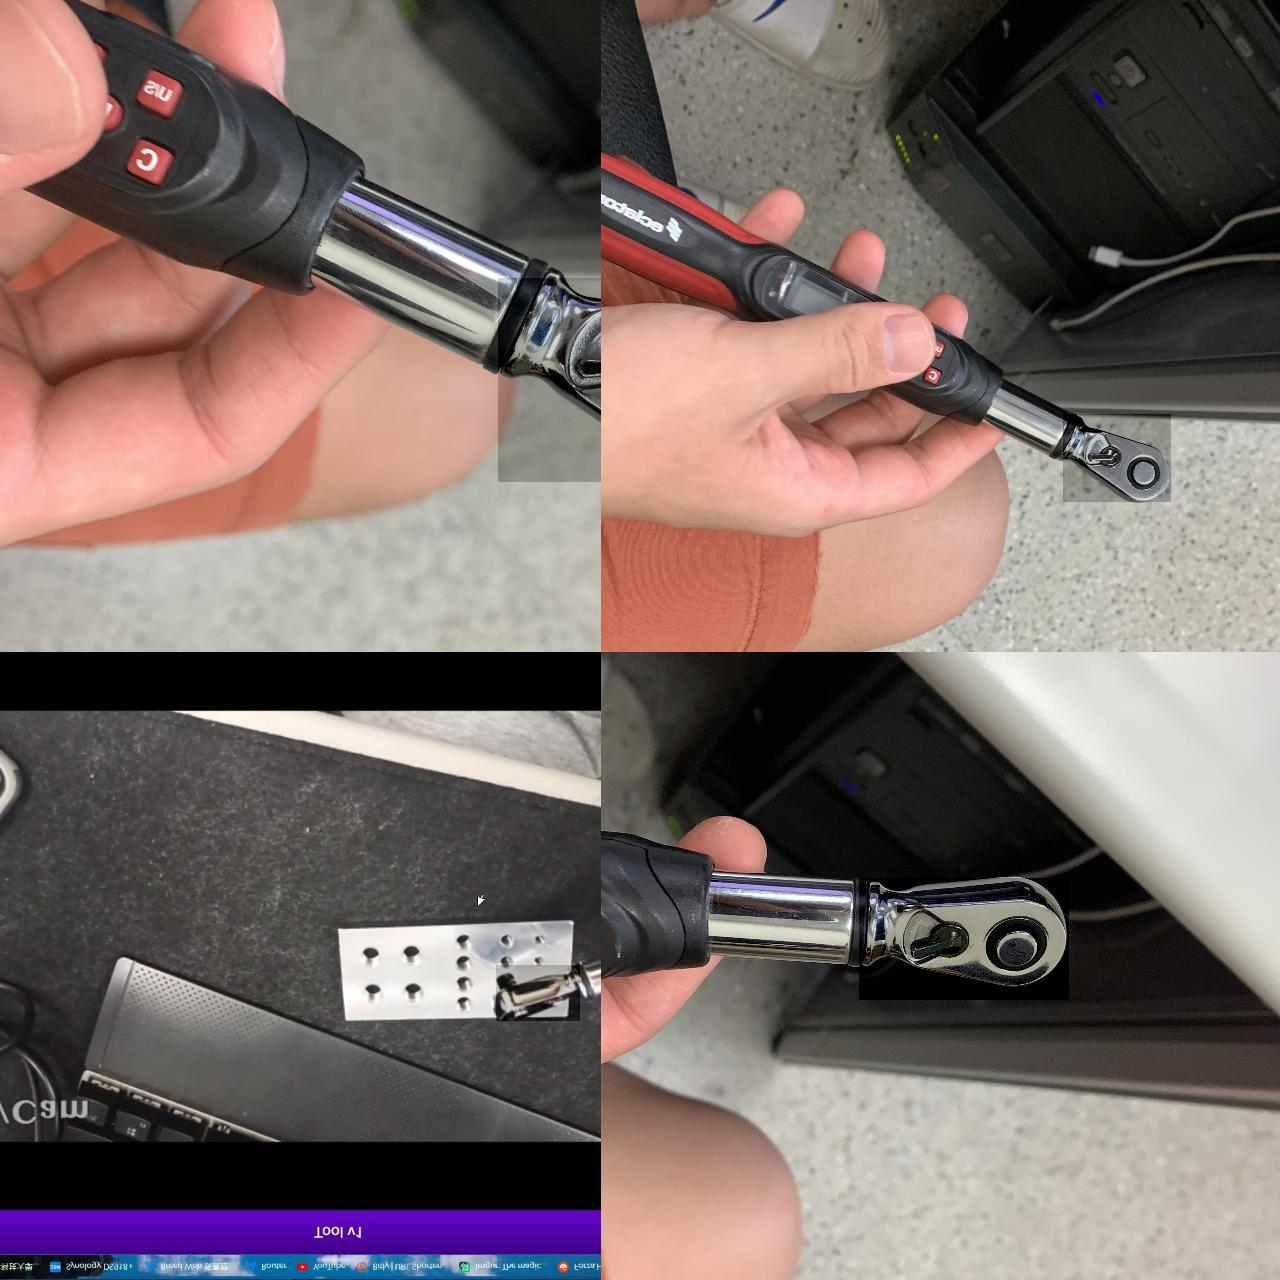Tool: (858, 877, 1068, 999), (497, 277, 601, 481), (1062, 413, 1170, 501), (495, 964, 579, 1020)
hole: (352, 941, 377, 967), (396, 976, 421, 1001), (395, 940, 420, 965), (353, 985, 377, 1007), (449, 931, 472, 952), (449, 996, 472, 1017), (450, 971, 472, 990), (497, 952, 519, 967), (497, 931, 516, 947), (535, 933, 545, 946)
